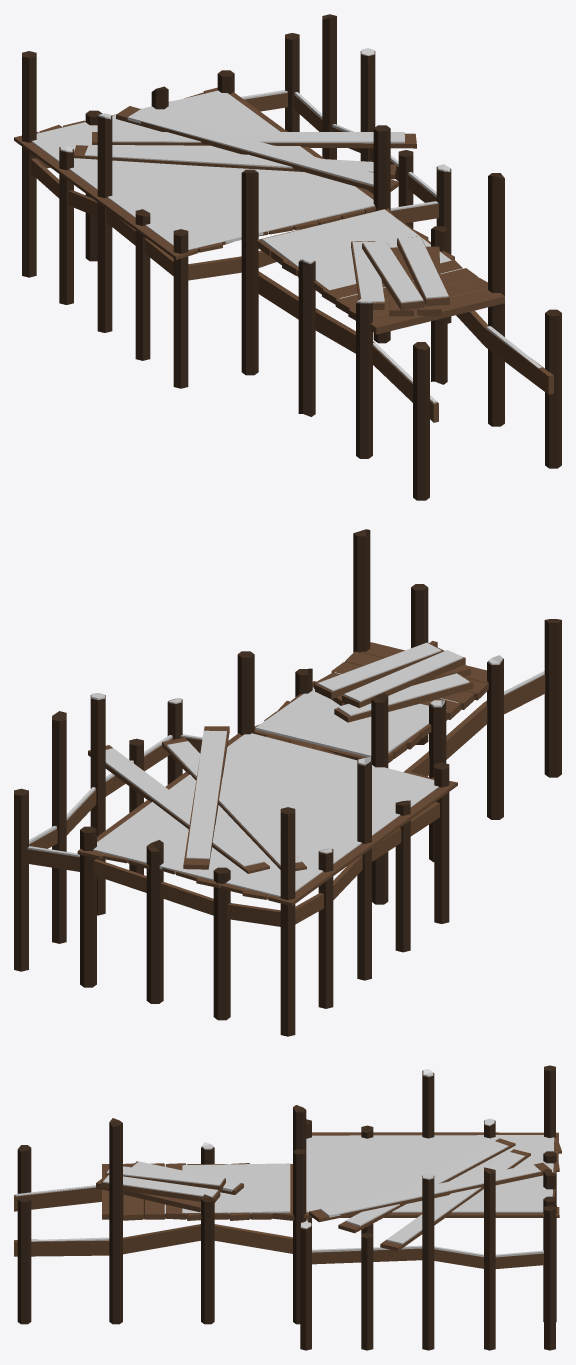
The model's file is fishery_build_snow_mat.fbx.
3 renders of one model, top to bottom at view 1: azimuth 30°, elevation 25°; view 2: azimuth 150°, elevation 25°; view 3: azimuth 270°, elevation 25°, orthographic. The views are drawn at different scales.
Parts seen in each view (by area): view 1: fishery_build_snow_mat; view 2: fishery_build_snow_mat; view 3: fishery_build_snow_mat.
Boxes of the visible parts, x1=… form: fishery_build_snow_mat: x1=14, y1=14, x2=561, y2=500; fishery_build_snow_mat: x1=14, y1=529, x2=561, y2=1036; fishery_build_snow_mat: x1=14, y1=1065, x2=561, y2=1350.
Size of the model in its own units: 349 by 277 by 682.
